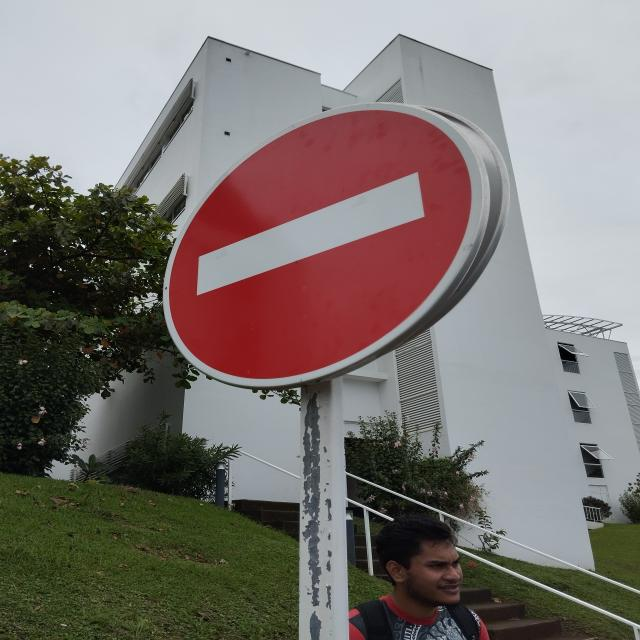Sens-Interdit: (159, 96, 493, 388)
